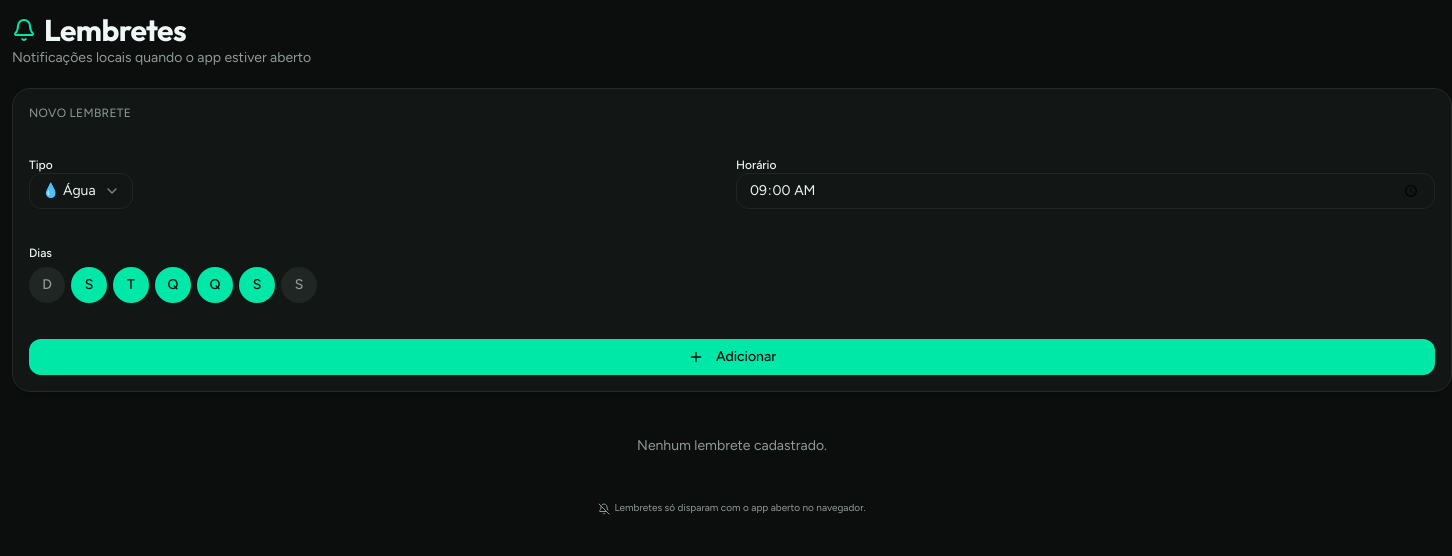
Test: RemindersPage — integração (supabase mock) › tipo inteligente esconde o horário manual e mostra o hint
Expected: the text "Novo lembrete" is shown, [29,106,131,120]
Expected: the time field showing "09:00" is shown, [736,173,1435,209]
Click the dropdown at (81, 191), box [29,173,133,209]
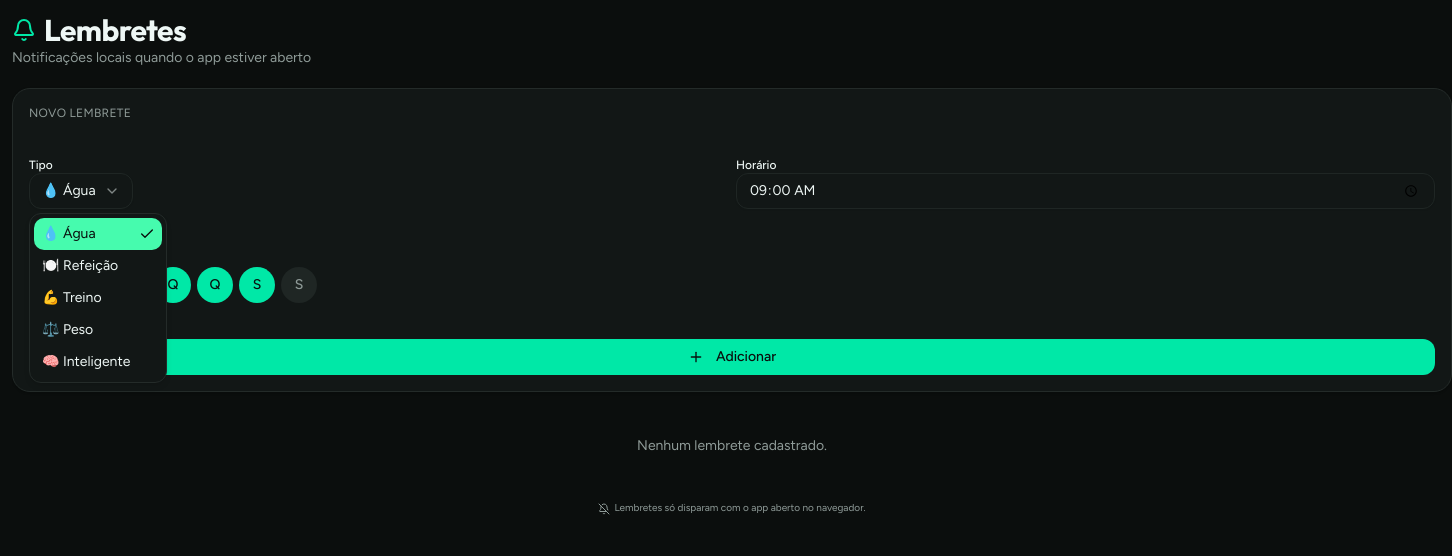
Click the option "🧠 Inteligente" at (86, 362), box [42,353,130,370]
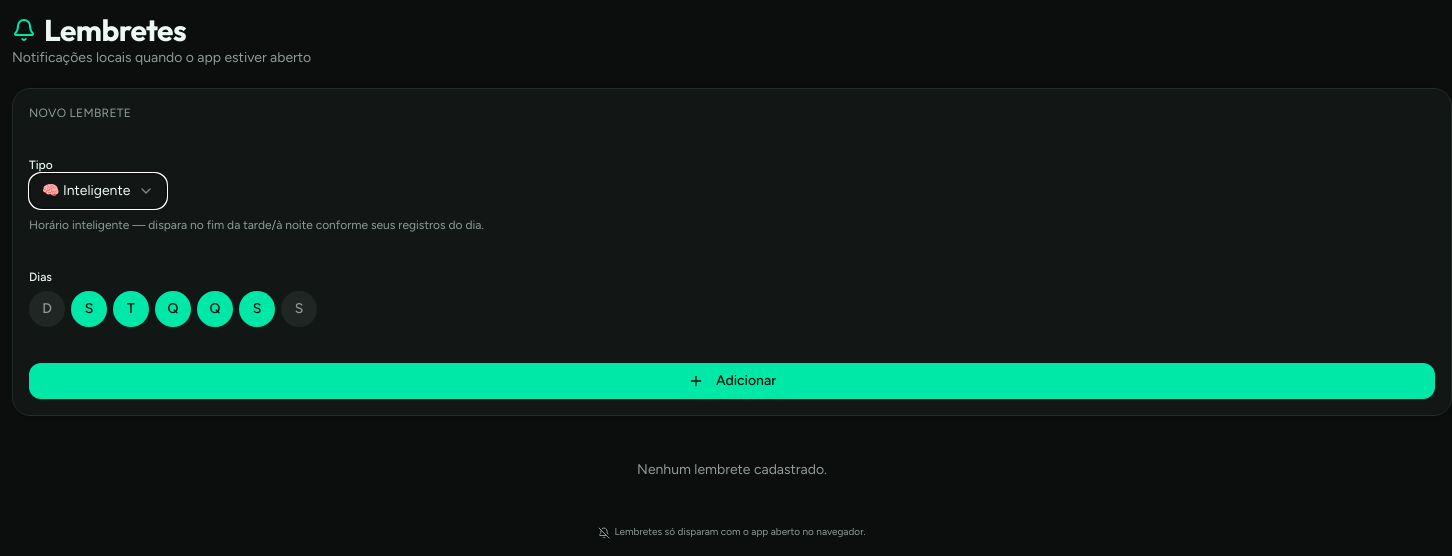
Expected: the field showing "09:00" is not shown
Expected: the text "Horário inteligente" is shown, [29,218,484,232]
Click the dropdown at (98, 191), box [29,173,167,209]
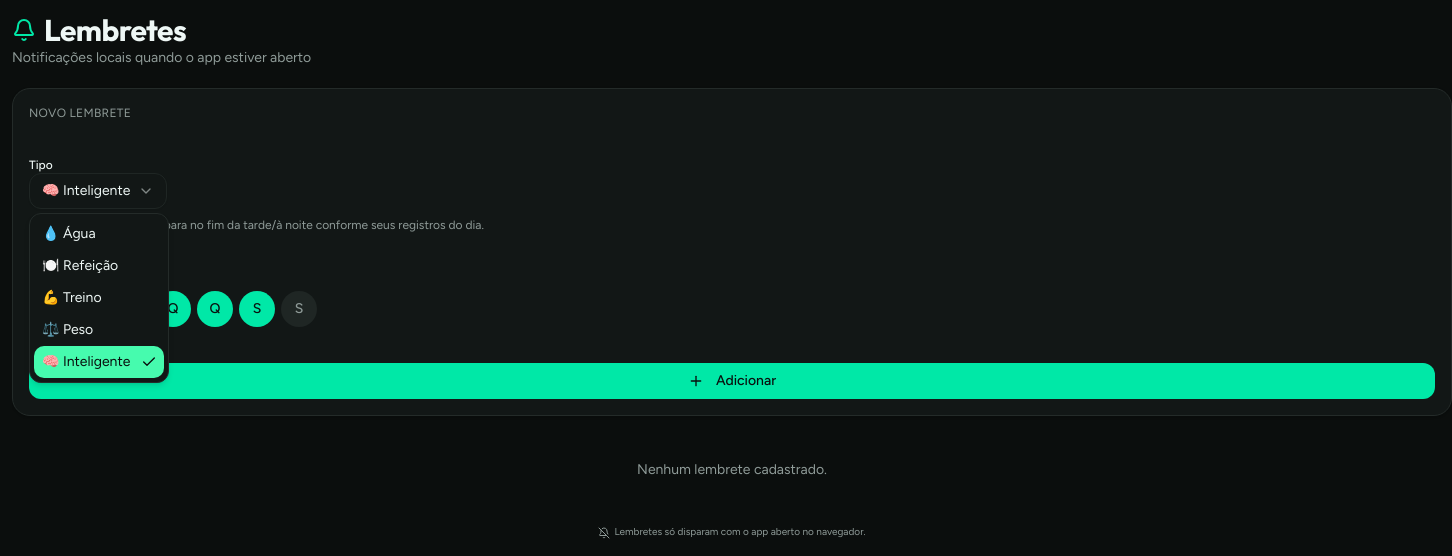
Click the option "💧 Água" at (69, 234), box [42,225,96,242]
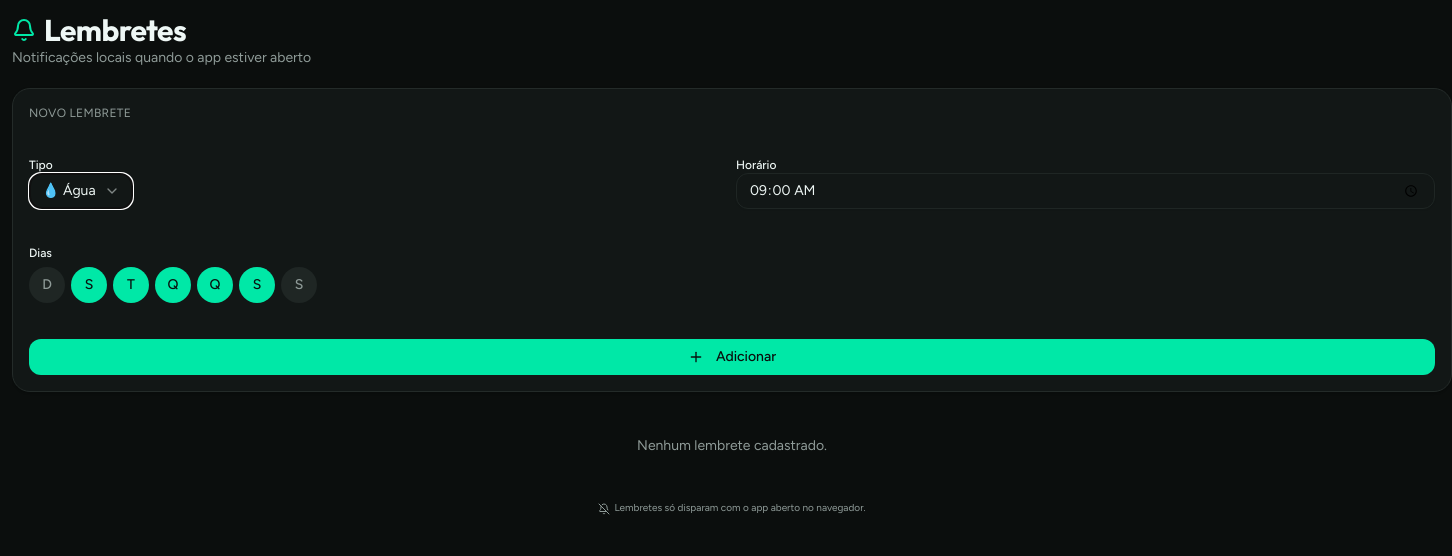
Expected: the time field showing "09:00" is shown, [736,173,1435,209]
